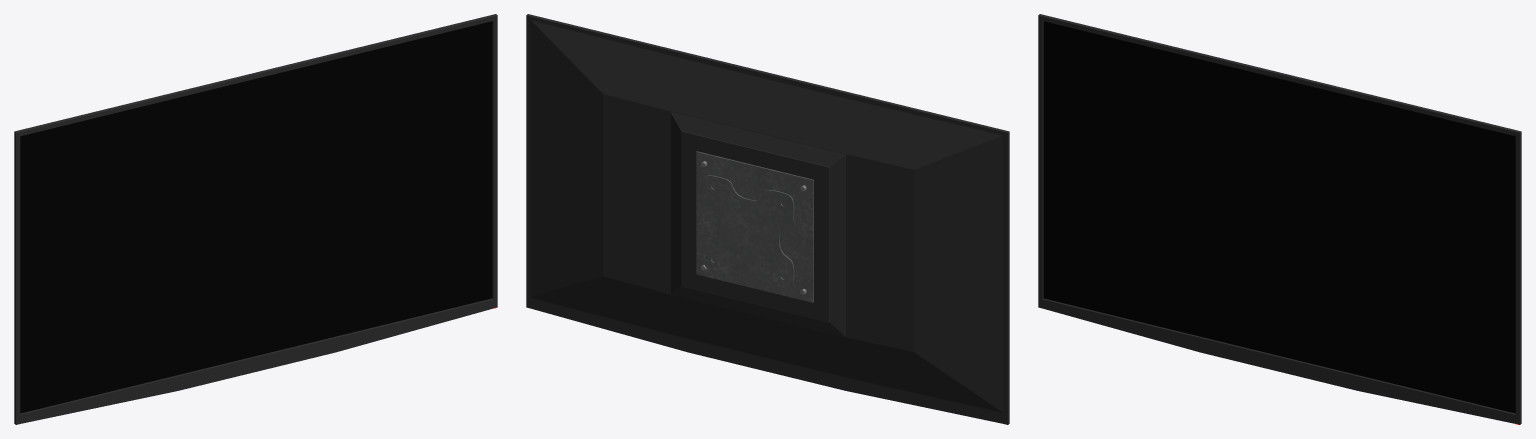
3 views of the same model, side by side, from view 1: azimuth 30°, elevation 25°; view 2: azimuth 150°, elevation 25°; view 3: azimuth 330°, elevation 25° (orthographic).
Parts seen in each view (by area): view 1: screen, frame; view 2: frame; view 3: screen, frame.
Part boxes in pixels (<box>): screen: <box>20,21,492,413</box>; frame: <box>14,14,497,424</box>; frame: <box>526,14,1009,424</box>; screen: <box>1043,21,1515,413</box>; frame: <box>1038,14,1521,424</box>.
Bounding box in the file's own units: 1.35 × 0.7992 × 0.1008.
Materials: 5 (3 with a texture image).
